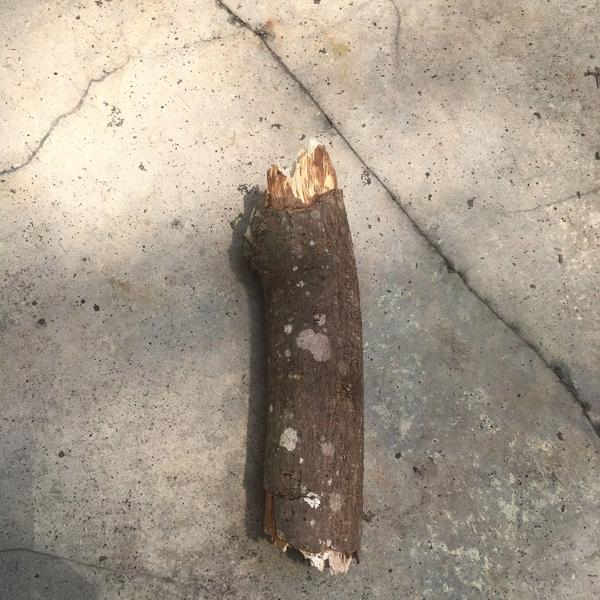Organik: (223, 119, 410, 584)
